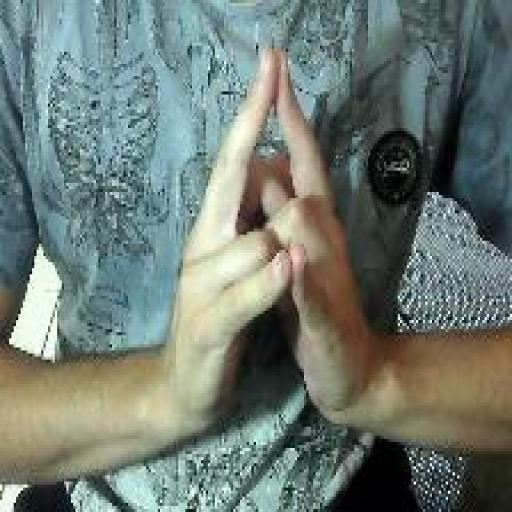Tori -bird-: (160, 36, 377, 439)
